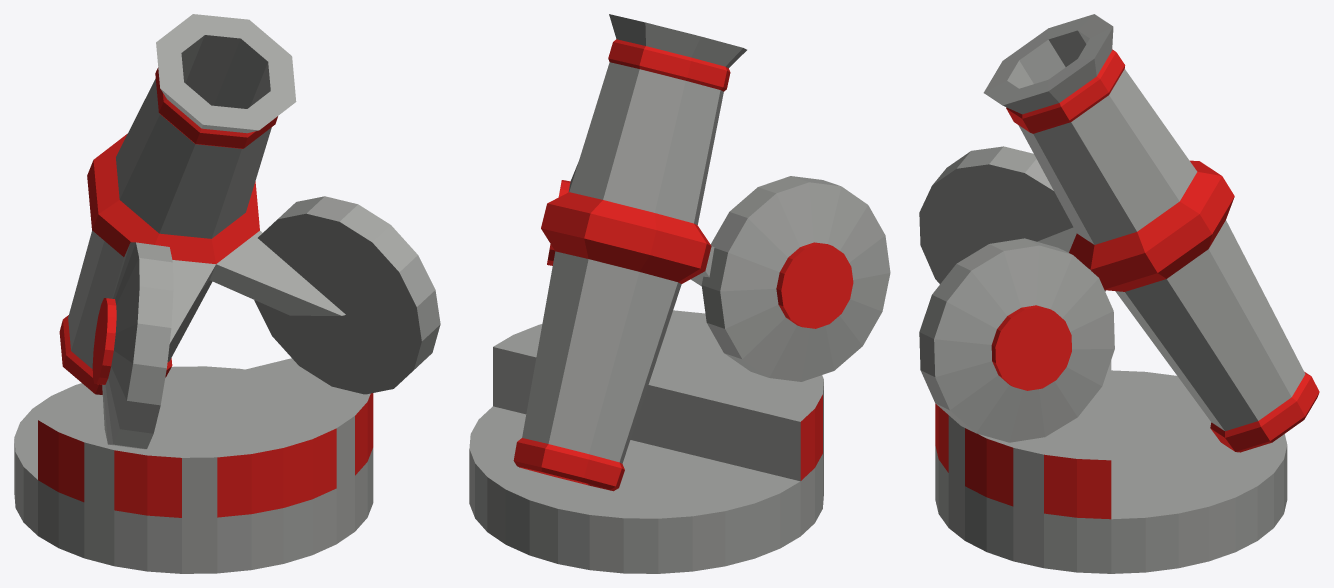
File: Mortar_Basic_Fire.fbx
The picture shows the model from 3 angles, left to right: view 1: azimuth 30°, elevation 25°; view 2: azimuth 150°, elevation 25°; view 3: azimuth 270°, elevation 25°; orthographic projection. The views are drawn at different scales.
Visible parts, largest first — view 1: Circle; view 2: Circle; view 3: Circle.
Part boxes in pixels (x1,y1,x2,y2): Circle: [14, 14, 440, 573]; Circle: [469, 14, 890, 573]; Circle: [919, 14, 1319, 573].
Bounding box in the file's own units: 492 × 724 × 555.
Materials: 1 (1 with a texture image).
